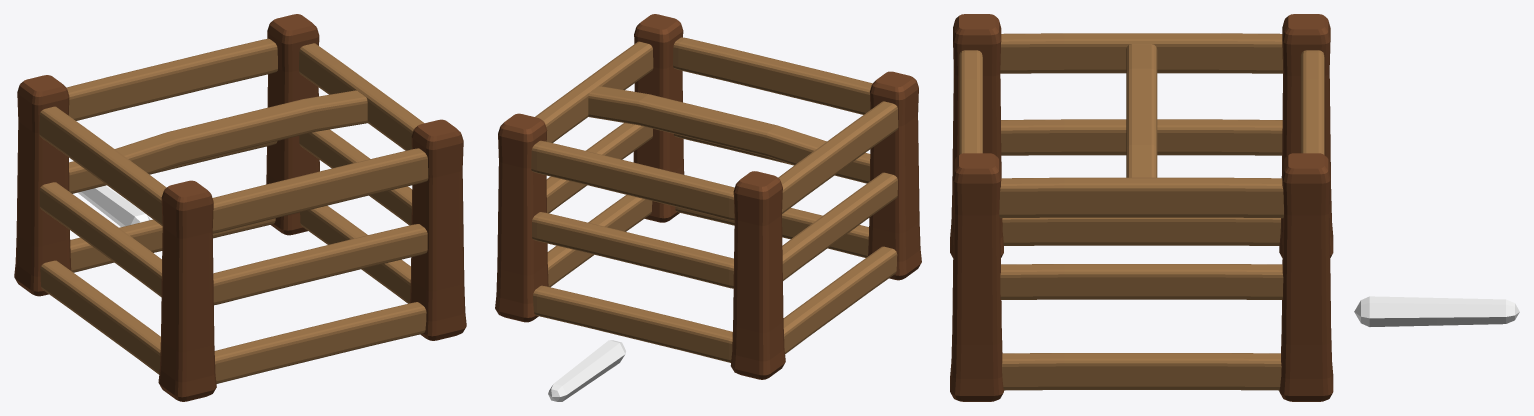
File: Hunter_Box_Trap_Simple.glb
3 views of the same model, side by side, from view 1: azimuth 30°, elevation 25°; view 2: azimuth 150°, elevation 25°; view 3: azimuth 270°, elevation 25° (orthographic). The views are drawn at different scales.
Visible parts, largest first — view 1: frame, trim, stick; view 2: frame, trim, stick; view 3: frame, trim, stick.
Part boxes in pixels (<box>): frame: <box>39,38,428,383</box>; trim: <box>14,14,466,401</box>; stick: <box>78,186,150,226</box>; frame: <box>531,37,898,362</box>; trim: <box>495,14,921,379</box>; stick: <box>548,340,625,401</box>; frame: <box>959,33,1324,390</box>; trim: <box>950,14,1333,401</box>; stick: <box>1354,296,1519,326</box>.
Size of the model in its own units: 1.24 by 0.83 by 1.84.
